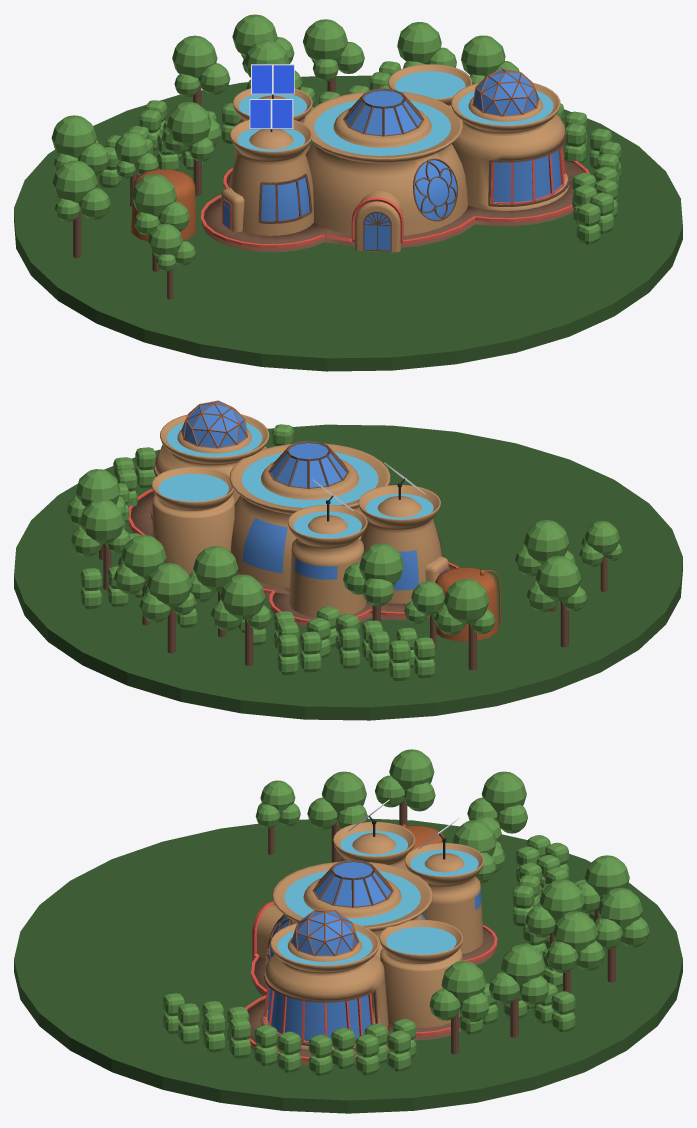
File: EXP_house_models.glb
The picture shows the model from 3 angles, top to bottom: view 1: azimuth 30°, elevation 25°; view 2: azimuth 150°, elevation 25°; view 3: azimuth 270°, elevation 25°; orthographic projection.
Parts seen in each view (by area): view 1: EXP_Ground, EXP_House, EXP_forest, MainHouse, Bedroom, GreenHouse, EXP_Water, EXP_Biogas, Bathroom, WaterStorer; view 2: EXP_Ground, EXP_forest, EXP_House, MainHouse, Bathroom, Bedroom, WaterStorer, EXP_Water, EXP_Biogas, GreenHouse; view 3: EXP_Ground, EXP_forest, EXP_House, Bathroom, MainHouse, GreenHouse, EXP_Water, WaterStorer, Bedroom, EXP_Biogas.
Part boxes in pixels (left/top/right/bottom): EXP_Ground: left=14, top=75, right=682, bottom=371; EXP_House: left=200, top=64, right=589, bottom=252; EXP_forest: left=51, top=14, right=621, bottom=299; MainHouse: left=303, top=91, right=464, bottom=234; Bedroom: left=229, top=120, right=313, bottom=235; GreenHouse: left=451, top=82, right=567, bottom=210; EXP_Water: left=395, top=71, right=553, bottom=125; EXP_Biogas: left=131, top=169, right=196, bottom=240; Bathroom: left=233, top=88, right=312, bottom=157; WaterStorer: left=388, top=64, right=471, bottom=105; EXP_Ground: left=14, top=424, right=682, bottom=720; EXP_forest: left=67, top=424, right=622, bottom=680; EXP_House: left=128, top=400, right=458, bottom=627; MainHouse: left=229, top=443, right=390, bottom=584; Bathroom: left=288, top=505, right=367, bottom=615; Bedroom: left=358, top=485, right=442, bottom=603; WaterStorer: left=152, top=466, right=234, bottom=568; EXP_Water: left=158, top=422, right=262, bottom=501; EXP_Biogas: left=435, top=567, right=501, bottom=641; GreenHouse: left=151, top=414, right=269, bottom=520; EXP_Ground: left=14, top=818, right=682, bottom=1113; EXP_forest: left=163, top=749, right=649, bottom=1075; EXP_House: left=245, top=799, right=497, bottom=1065; Bathroom: left=404, top=843, right=484, bottom=954; MainHouse: left=272, top=862, right=431, bottom=958; GreenHouse: left=261, top=923, right=388, bottom=1049; EXP_Water: left=277, top=927, right=456, bottom=965; WaterStorer: left=380, top=919, right=462, bottom=1026; Bedroom: left=333, top=822, right=415, bottom=868; EXP_Biogas: left=396, top=824, right=446, bottom=849.
Size of the model in its own units: 13.32 by 3.35 by 13.32.
